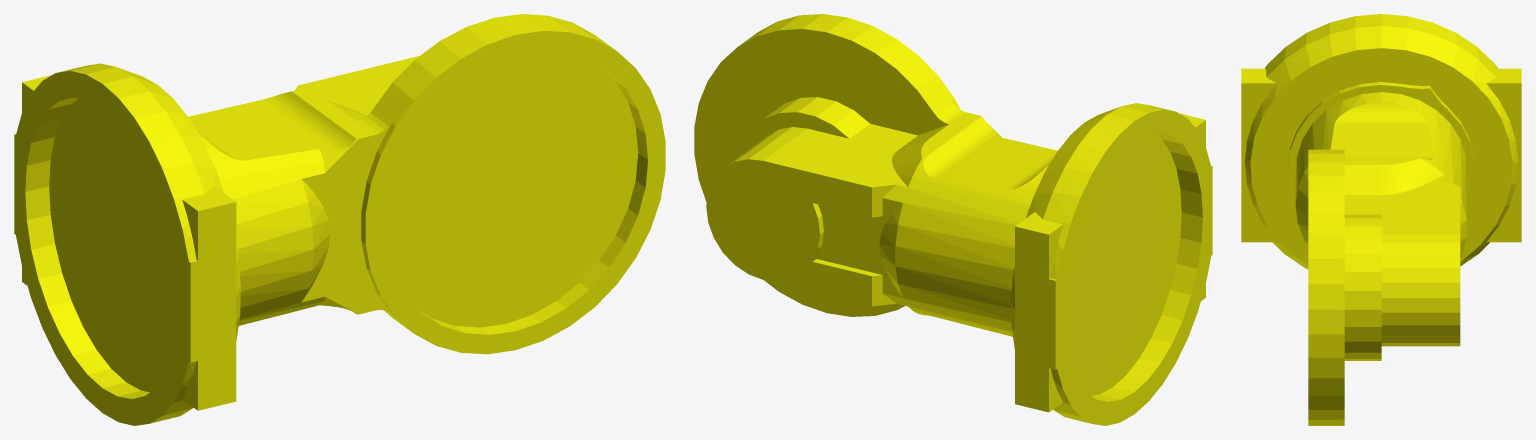
3 views of the same model, side by side, from view 1: azimuth 30°, elevation 25°; view 2: azimuth 150°, elevation 25°; view 3: azimuth 270°, elevation 25° (orthographic). The views are drawn at different scales.
Visible parts, largest first — view 1: New object; view 2: New object; view 3: New object.
Boxes of the visible parts, x1,y1,x2,y2 form: New object: (14,14,665,425); New object: (694,14,1212,425); New object: (1241,14,1521,425).
Bounding box in the file's own units: 0.2712 × 0.16 × 0.165.
